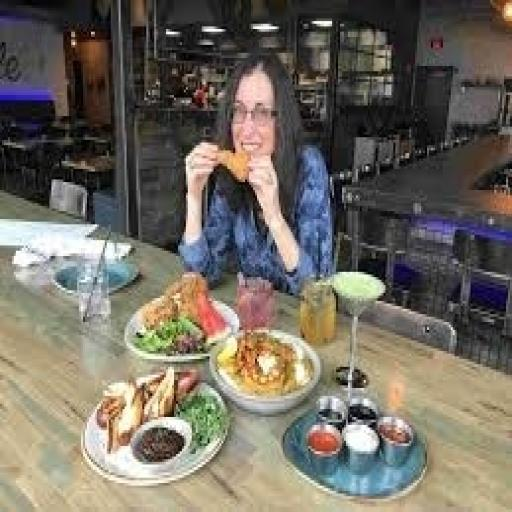eating: (176, 48, 336, 296)
